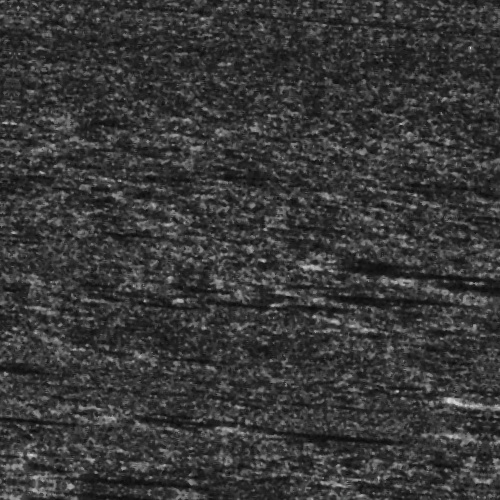object: (386, 261, 469, 272), (424, 377, 500, 388), (207, 423, 290, 432), (444, 411, 500, 420), (287, 257, 340, 262), (265, 283, 318, 288), (49, 486, 90, 491), (184, 298, 225, 303)
shadow: (249, 423, 401, 432), (69, 486, 277, 491), (313, 257, 500, 262), (292, 283, 451, 288), (428, 261, 500, 272), (0, 430, 43, 439), (205, 298, 282, 303), (476, 411, 500, 420)
